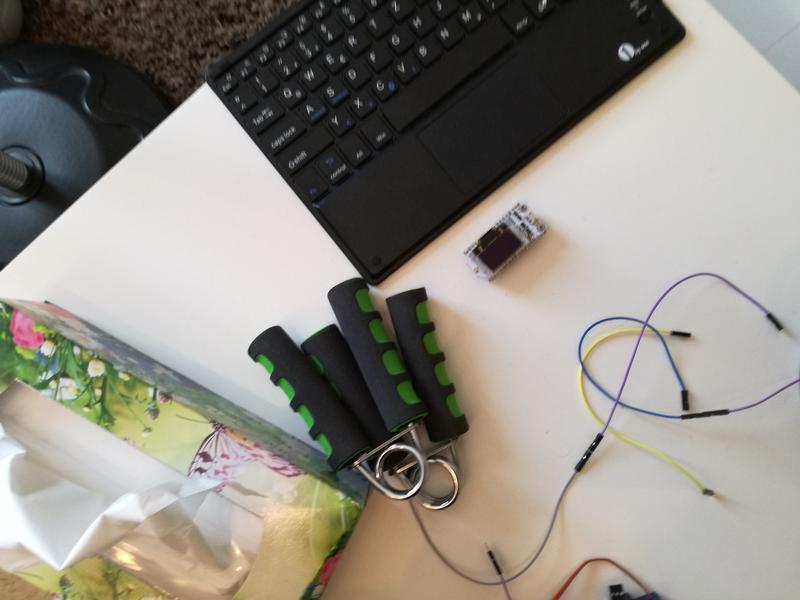Heltec_ESP32_Lora: (457, 198, 553, 287)
